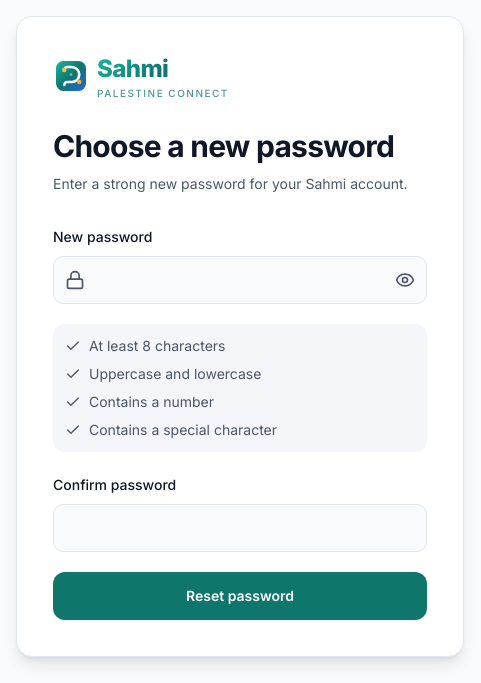
Test: password reset › submits the uid, token, and matching new password
In the password field labelled "New password": (240, 280) x1=53 y1=256 x2=427 y2=304, type "NewStrongPassword456!"
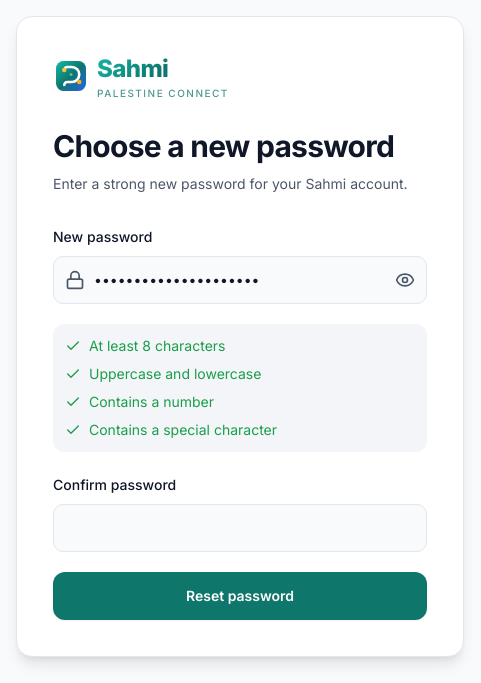
In the password field labelled "Confirm password": (240, 528) x1=53 y1=504 x2=427 y2=552, type "NewStrongPassword456!"
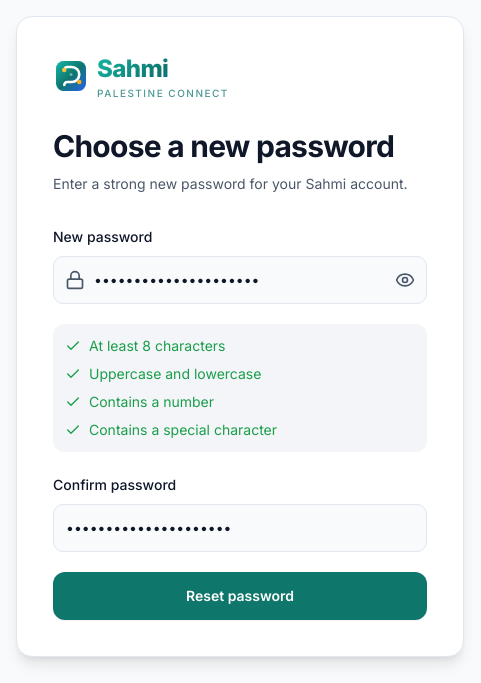
Click the button "Reset password": (240, 596) x1=53 y1=572 x2=427 y2=620
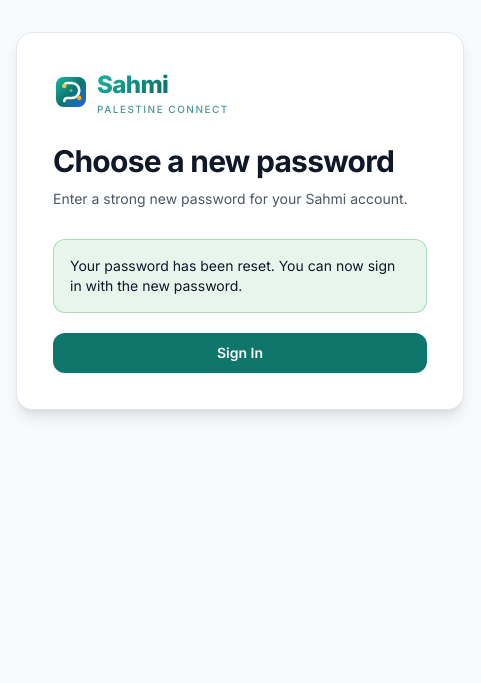
Result: the text "Your password has been reset" is shown at x1=70 y1=257 x2=395 y2=294
